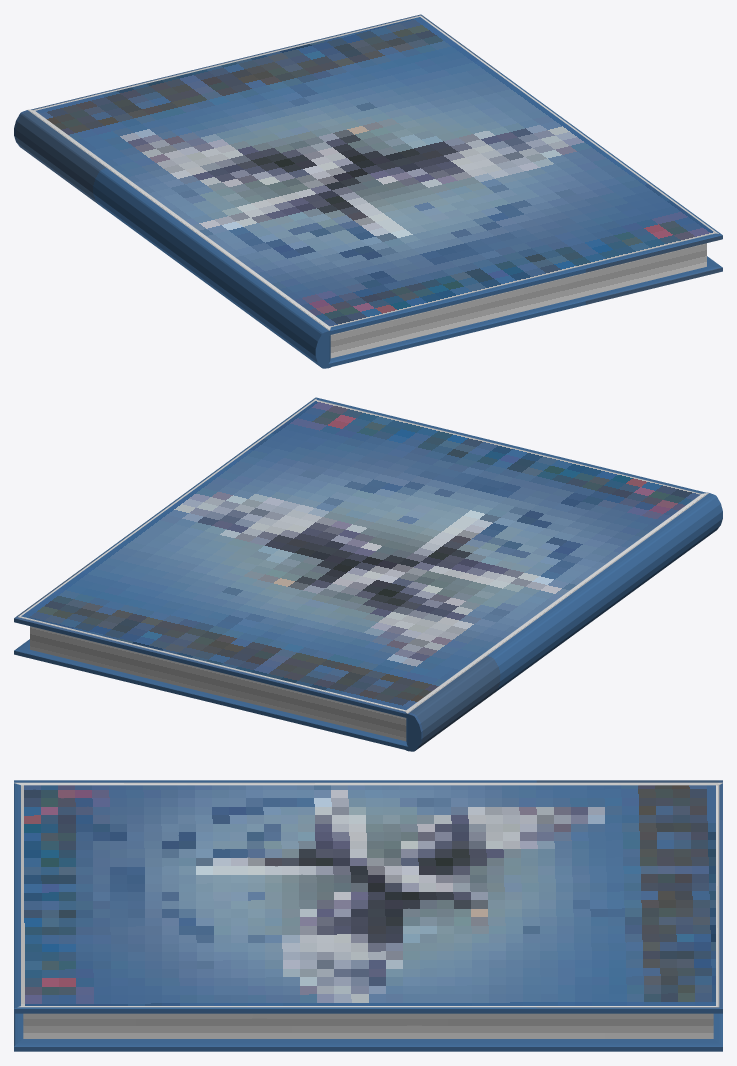
Rendered from book_blue_1.glb.
3 renders of one model, top to bottom at view 1: azimuth 30°, elevation 25°; view 2: azimuth 150°, elevation 25°; view 3: azimuth 270°, elevation 25°, orthographic. The views are drawn at different scales.
Parts seen in each view (by area): view 1: Livro1.002; view 2: Livro1.002; view 3: Livro1.002.
Part boxes in pixels (x1,y1,x2,y2): Livro1.002: (14, 14, 722, 368); Livro1.002: (14, 397, 722, 751); Livro1.002: (14, 780, 722, 1051).
Bounding box in the file's own units: 0.22 × 0.0194 × 0.2824.
1 material, 1 textured.
